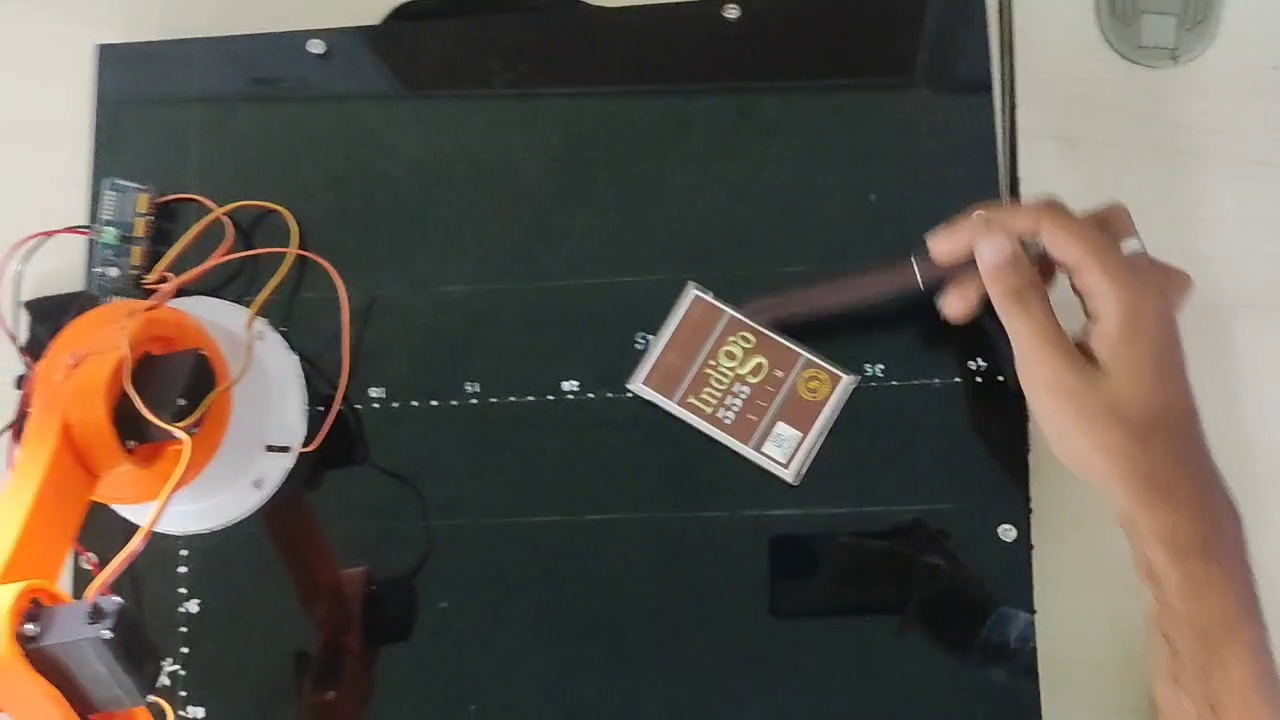BEX: (641, 290, 844, 470)
